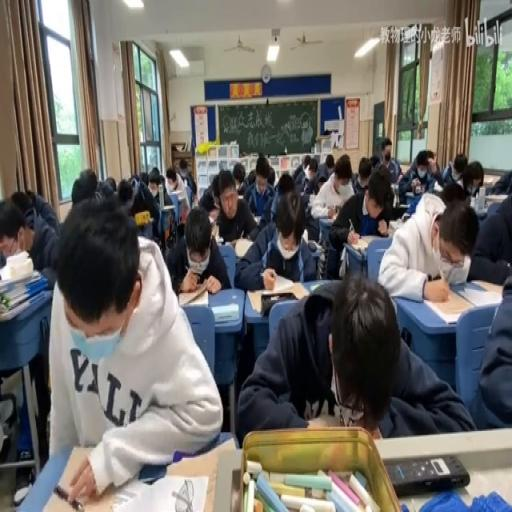calculator: (112, 471, 207, 512), (422, 289, 474, 321), (0, 265, 38, 294), (177, 279, 209, 304), (138, 460, 166, 484), (211, 302, 238, 324), (467, 279, 504, 294), (233, 236, 254, 258), (352, 235, 382, 250), (394, 202, 409, 219), (474, 203, 489, 219), (388, 219, 404, 233), (320, 215, 339, 226), (306, 239, 322, 252), (485, 193, 507, 202), (404, 189, 418, 201), (210, 224, 219, 240), (308, 282, 326, 290), (306, 194, 318, 206), (228, 238, 238, 248), (252, 215, 261, 226), (160, 204, 174, 210), (433, 181, 442, 189), (217, 235, 224, 243), (237, 190, 243, 198), (230, 139, 236, 145)
paper: (48, 192, 221, 503), (237, 270, 470, 441), (0, 189, 59, 457), (378, 189, 475, 303), (234, 188, 316, 290), (467, 269, 512, 428), (165, 205, 229, 296), (467, 179, 512, 286), (140, 165, 174, 240), (398, 148, 439, 202), (378, 135, 402, 184), (70, 169, 98, 205), (197, 174, 218, 219), (298, 155, 321, 195), (10, 189, 34, 226), (461, 161, 484, 199), (351, 156, 373, 195), (176, 156, 196, 196), (486, 166, 511, 196), (438, 182, 466, 205), (116, 178, 134, 206), (230, 161, 245, 192), (276, 170, 294, 194), (334, 155, 350, 182), (453, 155, 466, 178), (166, 172, 178, 192), (104, 175, 117, 192), (138, 170, 149, 188), (315, 176, 326, 192), (325, 154, 334, 172), (267, 165, 275, 185), (245, 168, 255, 183), (130, 174, 139, 190), (369, 155, 379, 169)
person: (386, 452, 470, 494), (259, 292, 297, 316)
